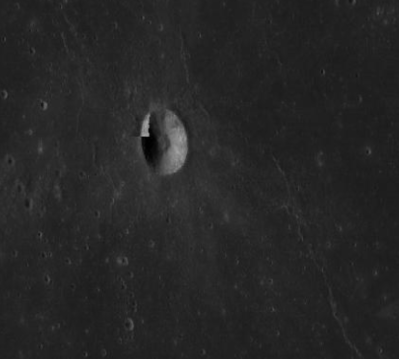crater: (103, 52, 237, 219)
